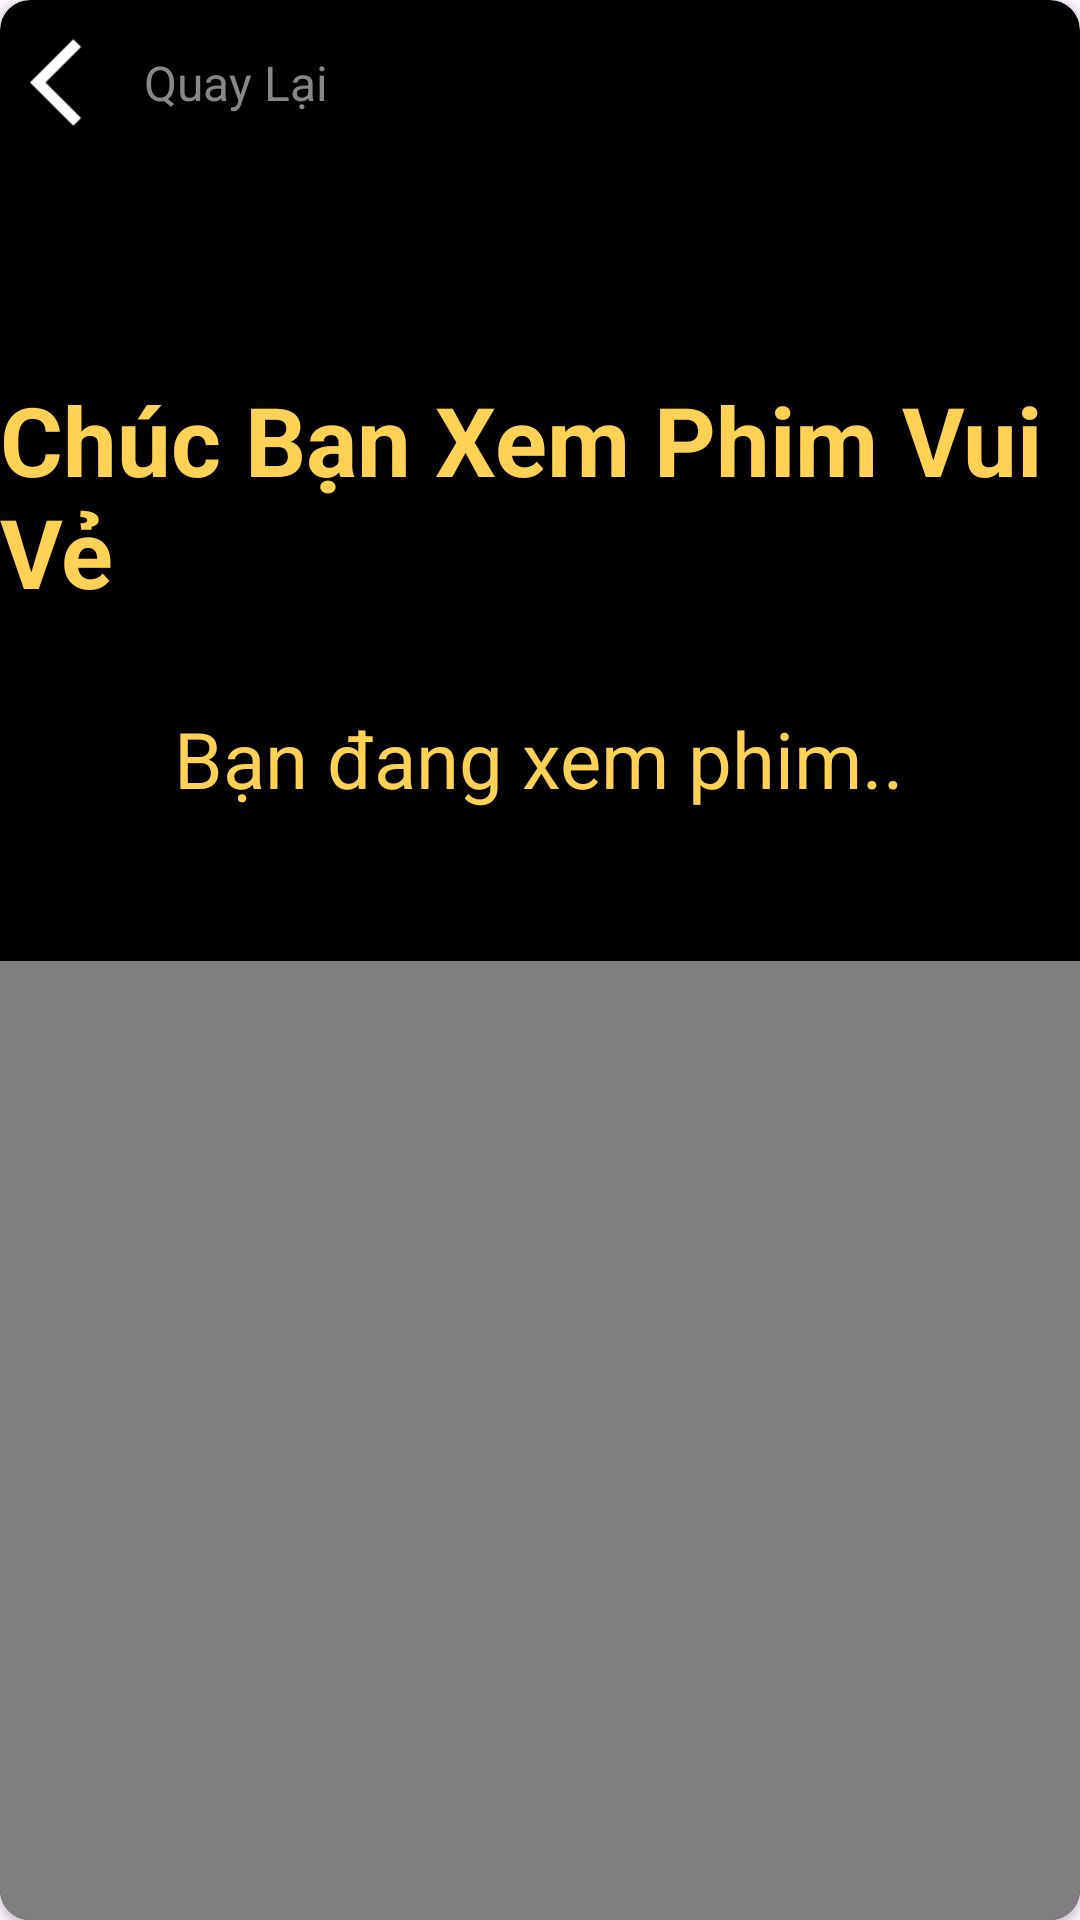

Screen size 1080w x 1920h. Icon name, then its box in pixels as bbox=[x1, y1, x2, y2]:
back: bbox=[30, 39, 82, 126]
